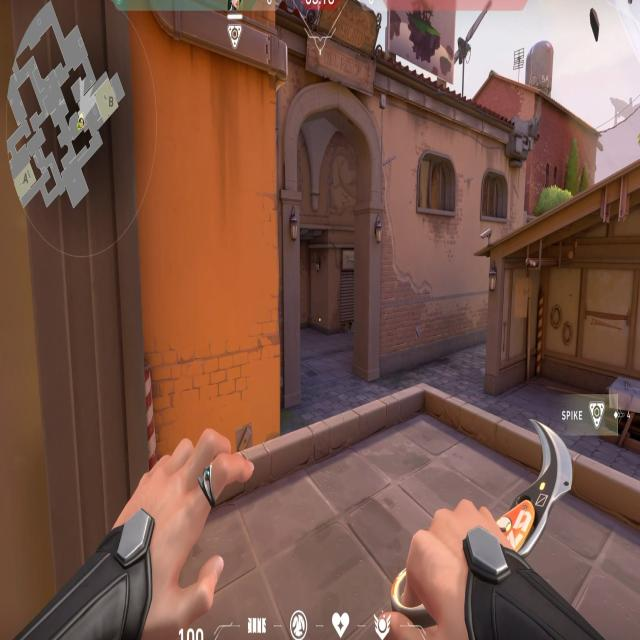B_Garage_Left: (488, 253, 626, 438)
Throwables: (415, 146, 459, 226), (479, 168, 511, 228)
